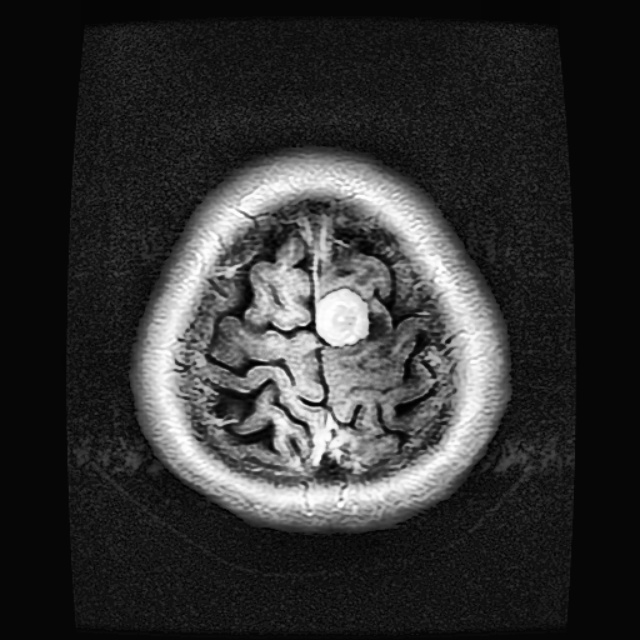Pituitary: (315, 288, 369, 345)
